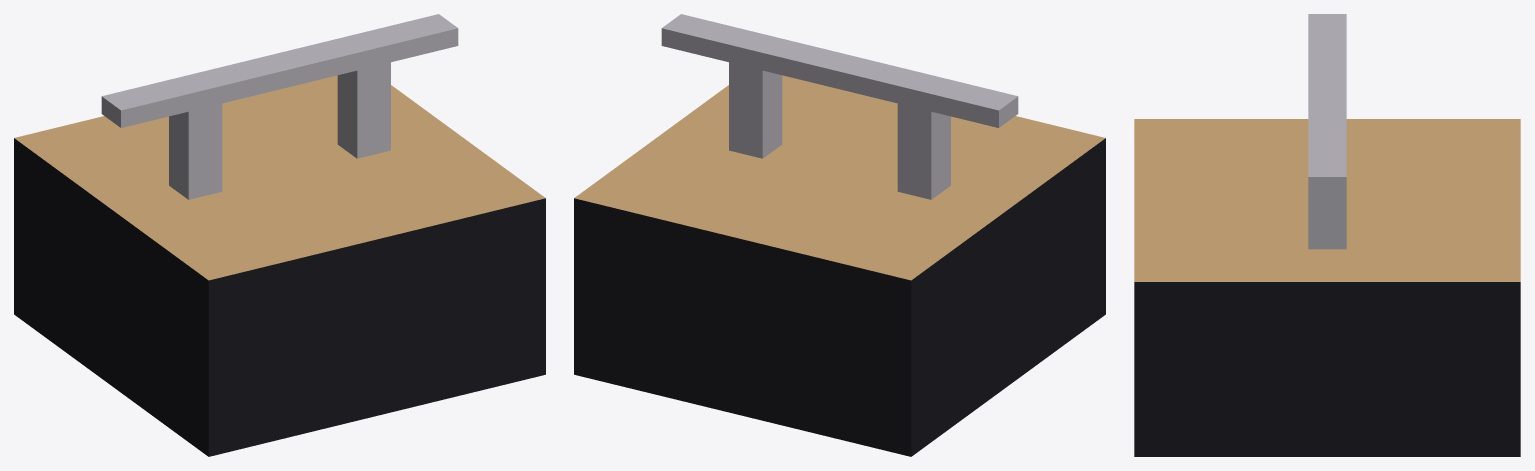
The model's file is Rail_Block_Short.fbx.
3 views of the same model, side by side, from view 1: azimuth 30°, elevation 25°; view 2: azimuth 150°, elevation 25°; view 3: azimuth 270°, elevation 25° (orthographic).
Visible parts, largest first — view 1: Rail_Block_Short; view 2: Rail_Block_Short; view 3: Rail_Block_Short.
Part boxes in pixels (<box>): Rail_Block_Short: <box>14,14,545,456</box>; Rail_Block_Short: <box>574,14,1105,456</box>; Rail_Block_Short: <box>1134,14,1520,456</box>.
Size of the model in its own units: 10 by 8 by 10.
